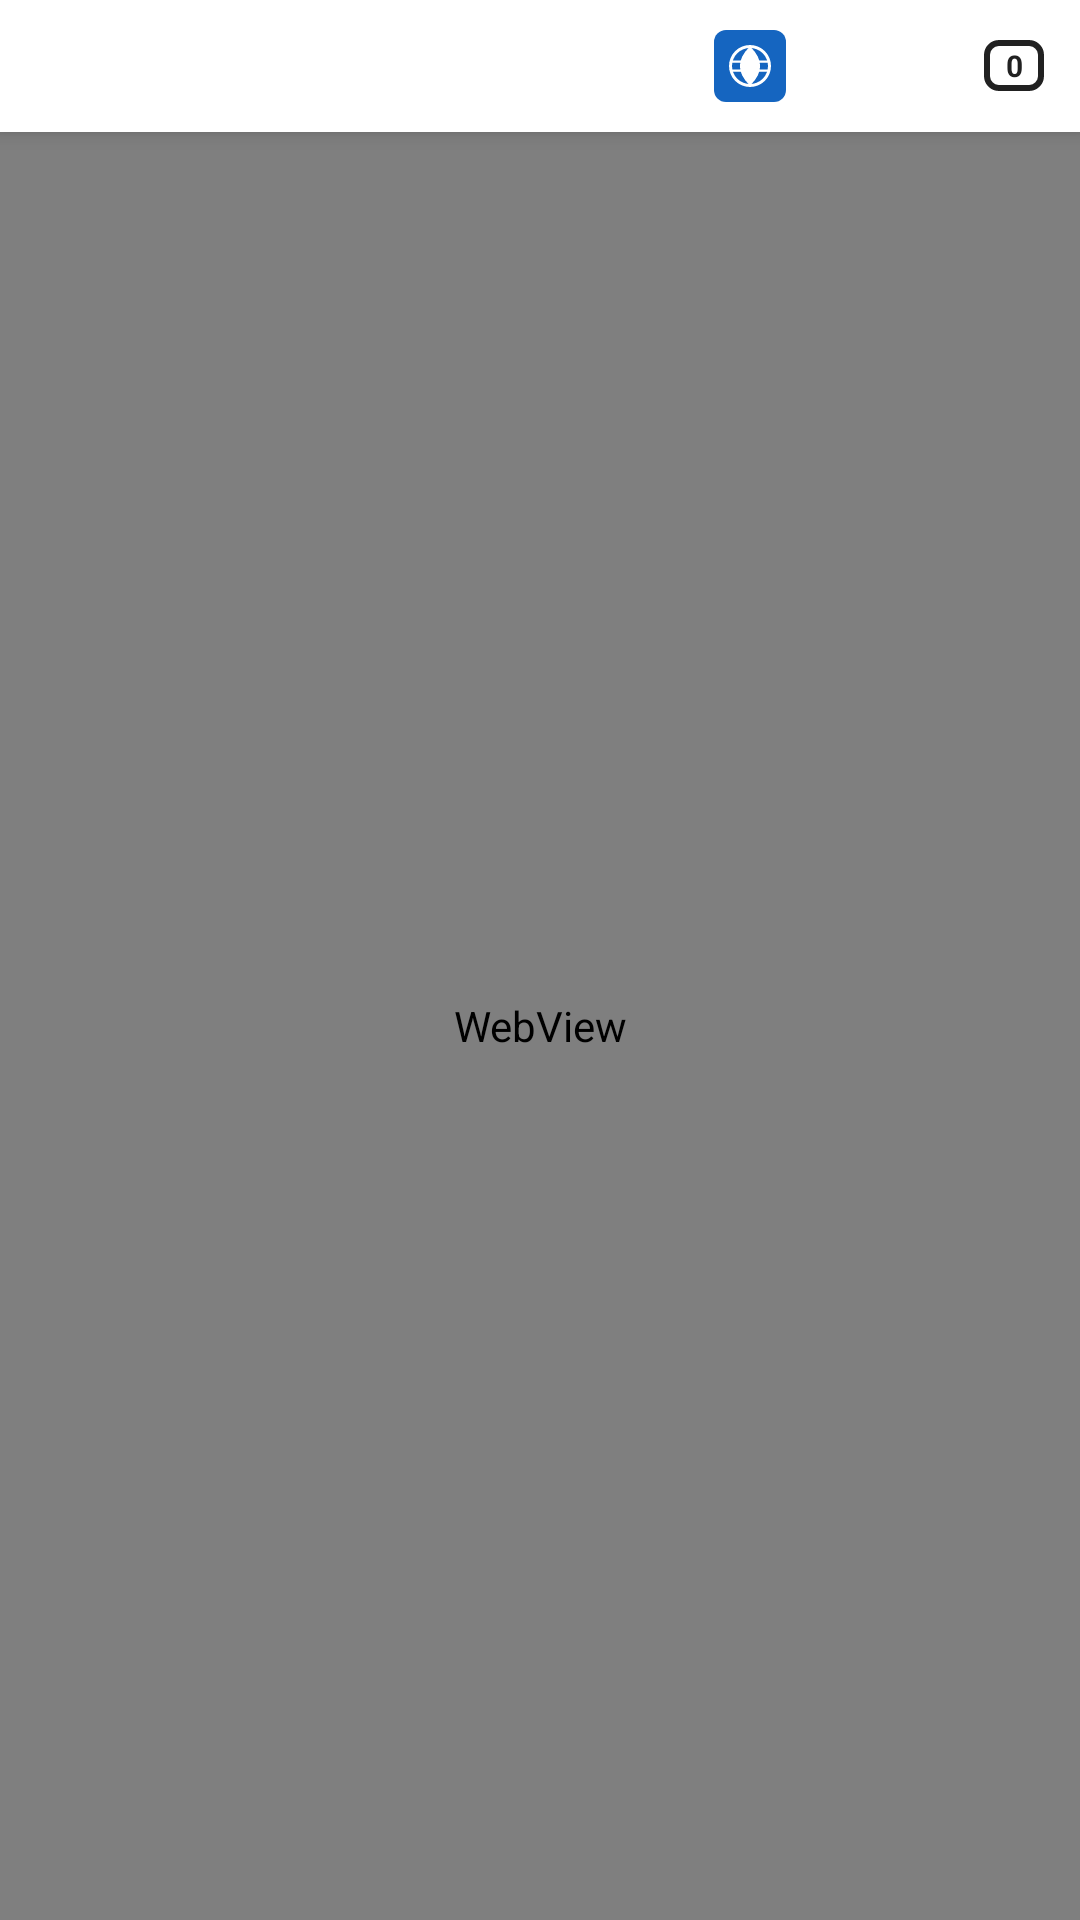

Named icons in this screenshot (1080w x 1920h) and their centers, (x=x, y=y):
Site home: (x=750, y=66)
